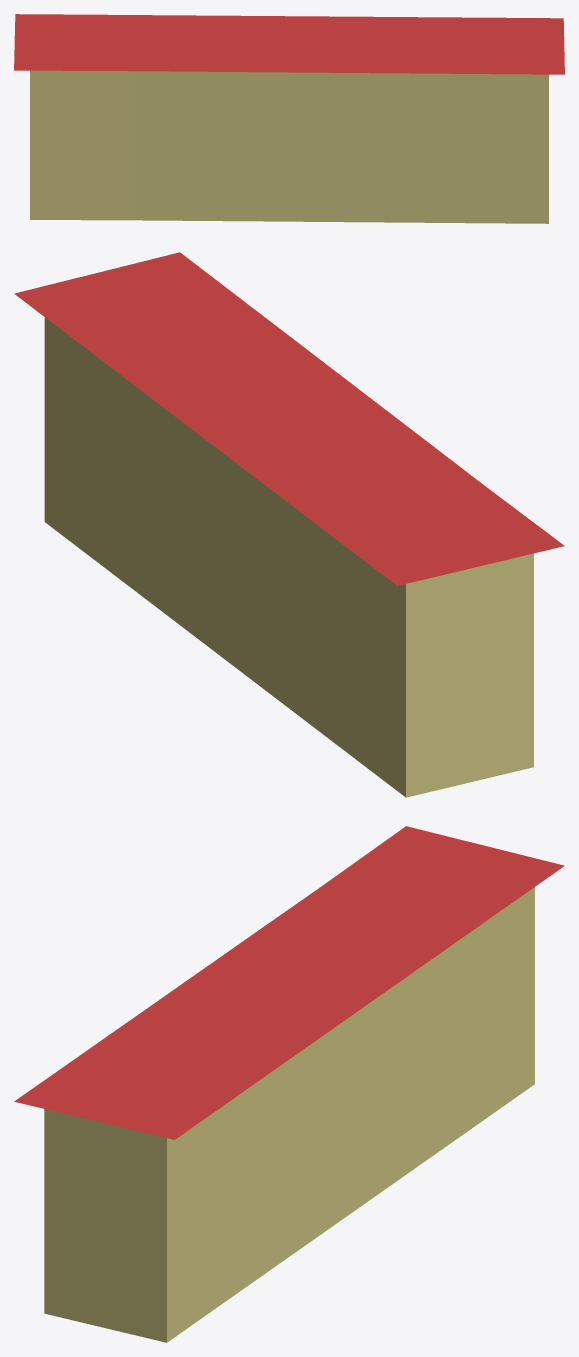
3 views of the same model, one above another, from view 1: azimuth 30°, elevation 25°; view 2: azimuth 150°, elevation 25°; view 3: azimuth 270°, elevation 25° (orthographic). The views are drawn at different scales.
Parts seen in each view (by area): view 1: group_5, group_3, group_4; view 2: group_5, group_3, group_4; view 3: group_5, group_3, group_4.
Boxes of the visible parts, x1,y1,x2,y2 form: group_5: [30, 70, 548, 223]; group_3: [14, 14, 564, 74]; group_4: [14, 14, 564, 74]; group_5: [44, 317, 533, 797]; group_3: [14, 252, 564, 585]; group_4: [15, 253, 564, 585]; group_5: [44, 887, 534, 1342]; group_3: [14, 826, 564, 1139]; group_4: [15, 826, 563, 1139].
Bounding box in the file's own units: 50.98 × 37.81 × 16.3.
